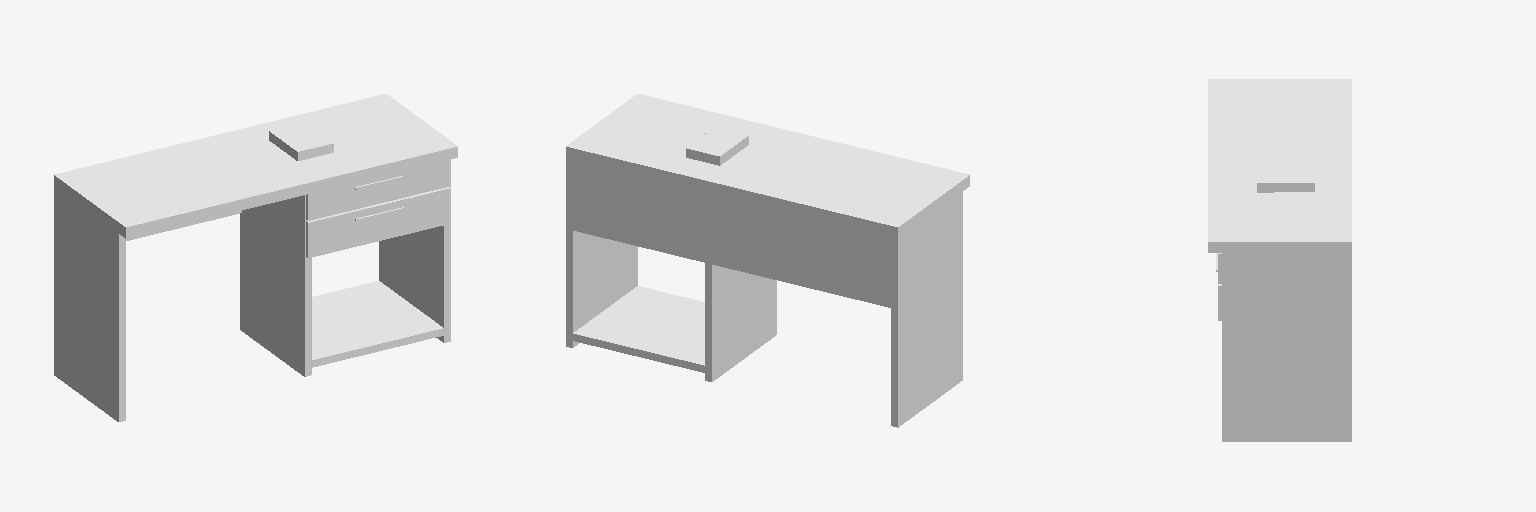
Rendered from Escrivaninha.obj.
3 views of the same model, side by side, from view 1: azimuth 30°, elevation 25°; view 2: azimuth 150°, elevation 25°; view 3: azimuth 270°, elevation 25° (orthographic).
Visible parts, largest first — view 1: object 1; view 2: object 1; view 3: object 1.
Part boxes in pixels (x1,y1,x2,y2): object 1: (54,94,457,421); object 1: (566,94,969,427); object 1: (1208,79,1351,441).
Bounding box in the file's own units: 18.6 × 11.2 × 7.